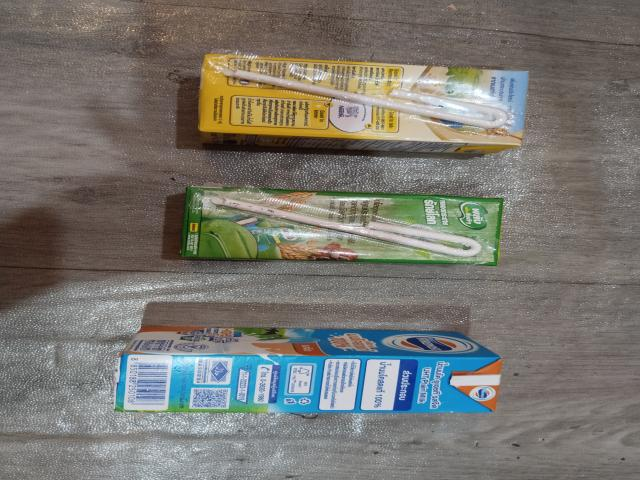drink_box: (186, 47, 544, 168), (107, 324, 512, 421), (168, 185, 520, 267)
